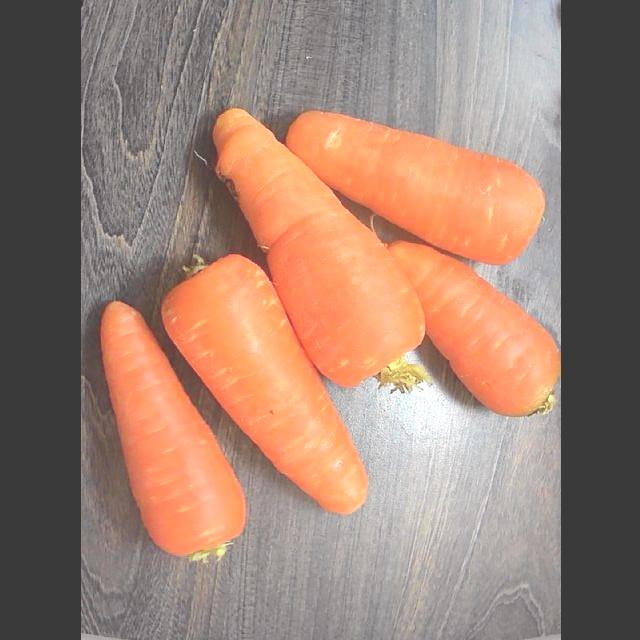zanahoria: (213, 110, 423, 387), (161, 255, 366, 514), (286, 112, 544, 264), (100, 302, 245, 564), (388, 241, 560, 416)
